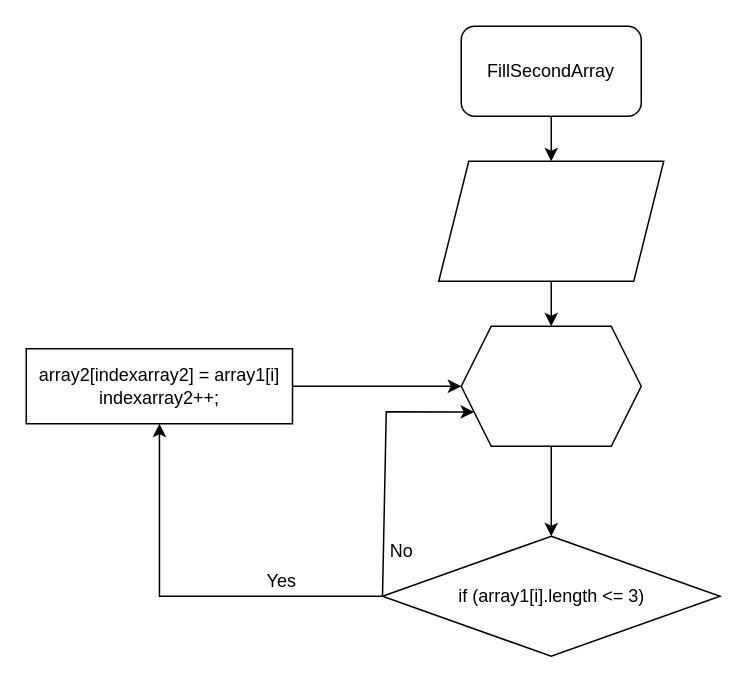
Some shapes in this 747 by 683 pixel diagram are drawn without their labels. The centre of each missing label's shape, as x and y in pixels:
for (int i = 0; i < array1.length; i++): the point at 550,385
string[] array1 string array2 int indexarray2 = 0: the point at 550,220
